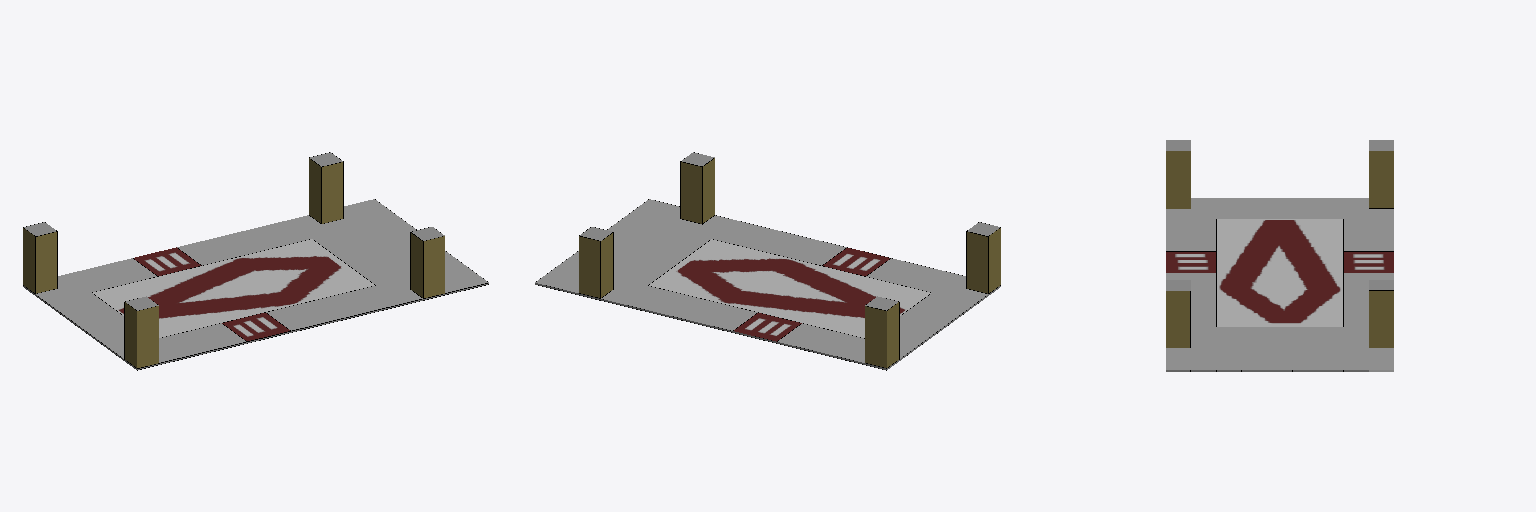
3 views of the same model, side by side, from view 1: azimuth 30°, elevation 25°; view 2: azimuth 150°, elevation 25°; view 3: azimuth 270°, elevation 25° (orthographic).
Visible parts, largest first — view 1: auto_pad_Cube.018; view 2: auto_pad_Cube.018; view 3: auto_pad_Cube.018.
Boxes of the visible parts, x1,y1,x2,y2 form: auto_pad_Cube.018: [23, 152, 488, 370]; auto_pad_Cube.018: [535, 152, 1000, 370]; auto_pad_Cube.018: [1166, 140, 1393, 371].
Size of the model in its own units: 32 by 5.18 by 18.
1 materials, 1 textured.